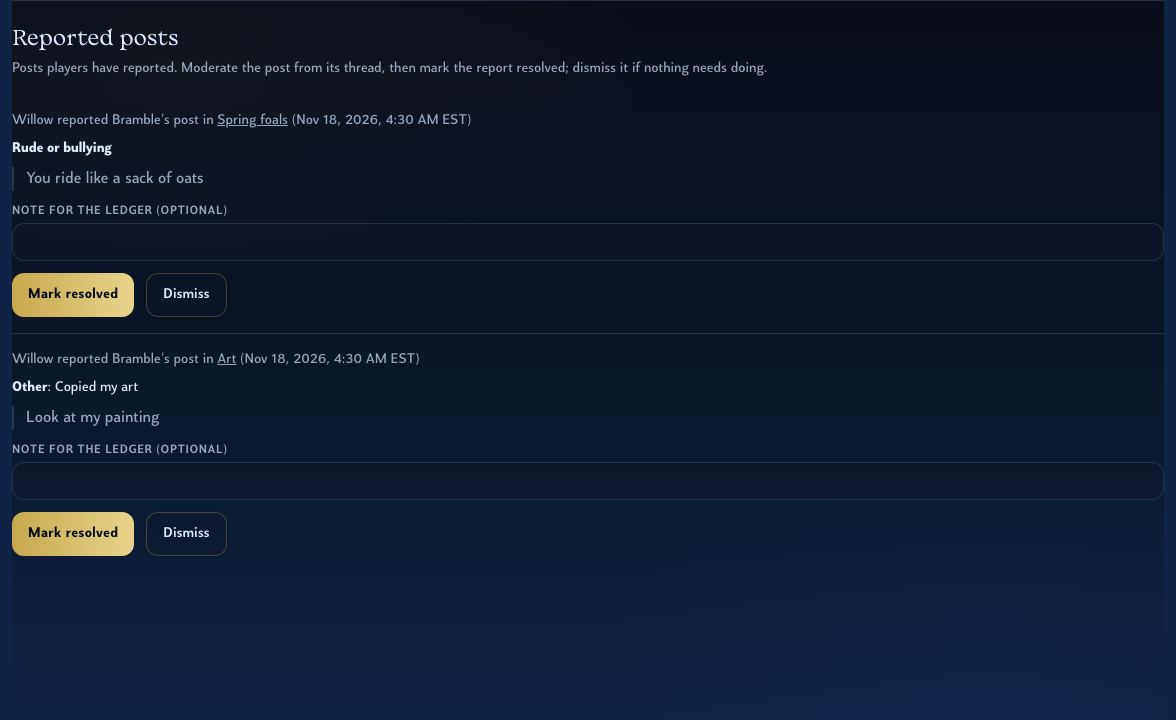
Test: StaffForumReports › resolving a report sends the ledger note and the report leaves the list
The width and height of the screenshot is (1176, 720).
Type "Removed the insult" into the field labelled "Note for the ledger (optional)" below "Spring foals" at (588, 242), box [12, 223, 1164, 261]
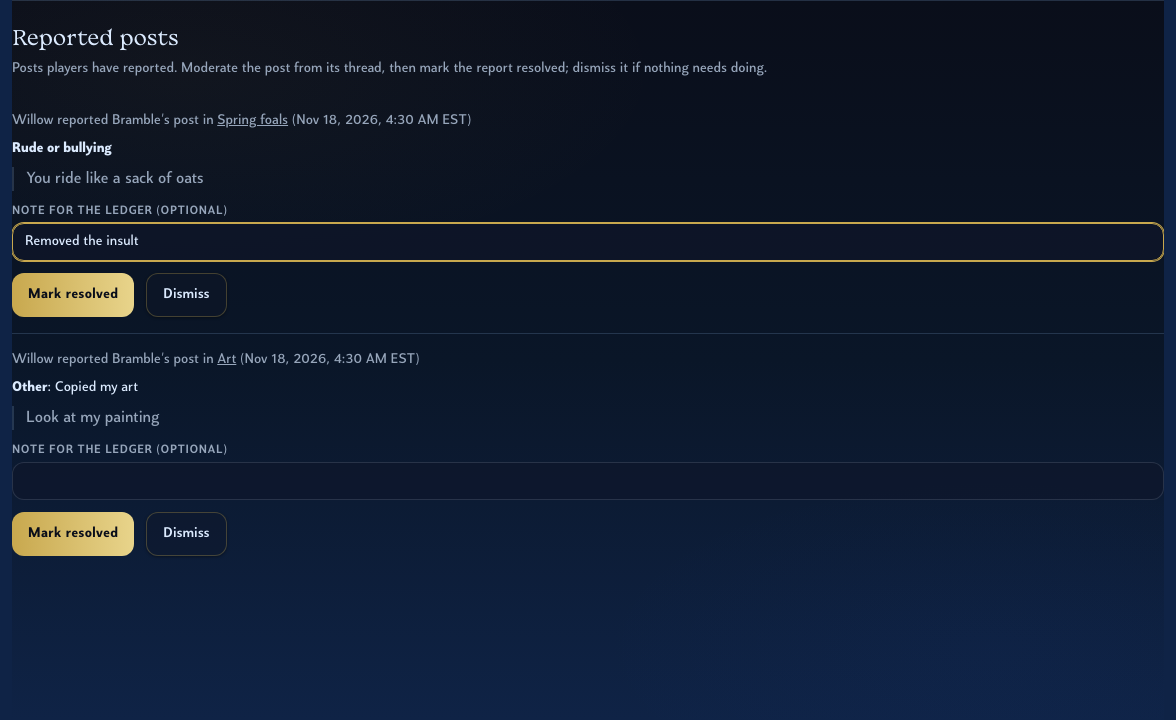
Click the button "Mark resolved" below "Spring foals" at (73, 295), box [12, 273, 134, 317]
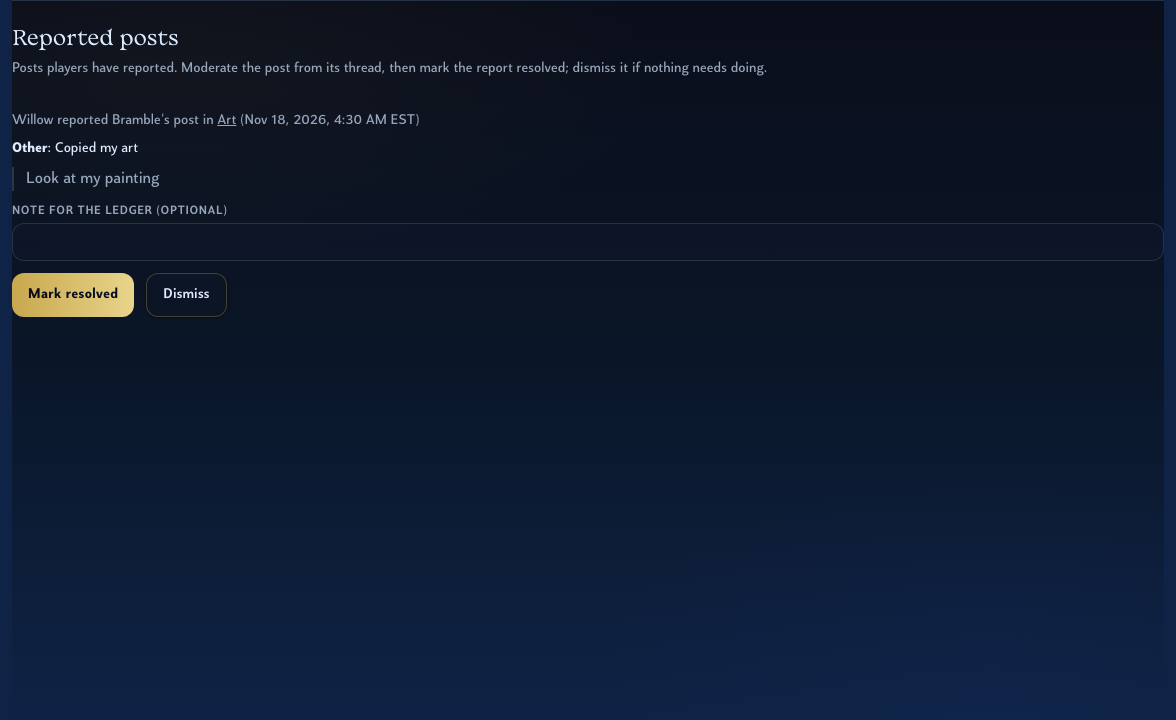
Result: the list item with test id "forum-report-5" is gone
